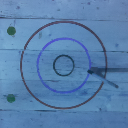Axe Tip: (89, 71, 100, 74)
